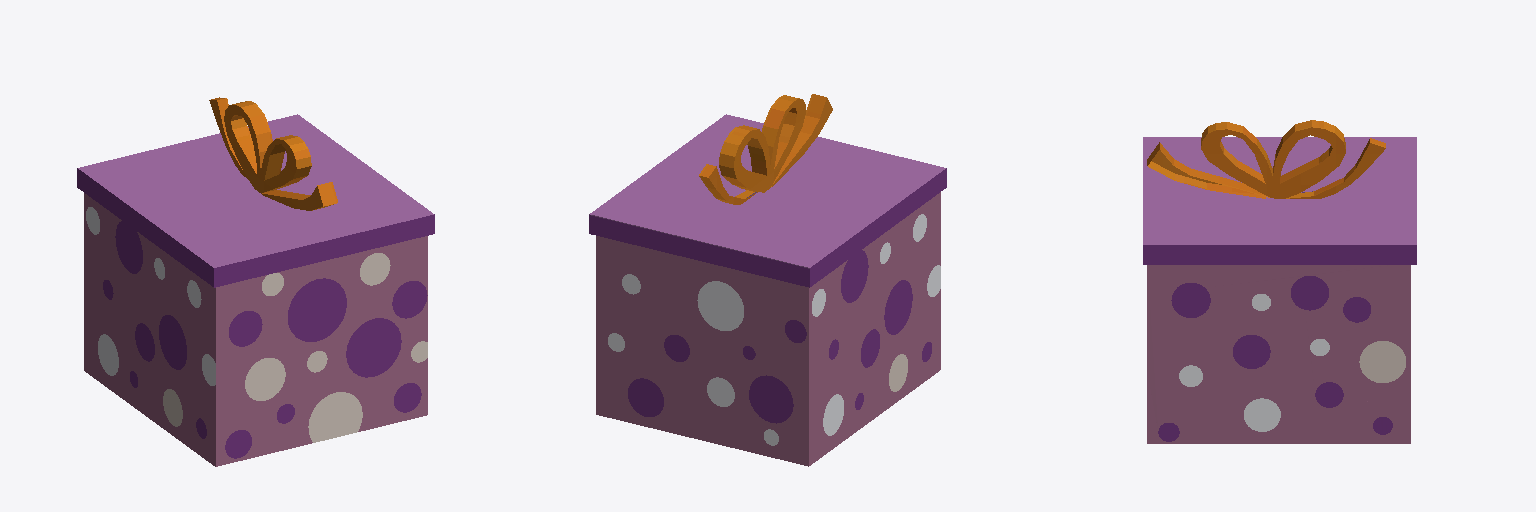
3 views of the same model, side by side, from view 1: azimuth 30°, elevation 25°; view 2: azimuth 150°, elevation 25°; view 3: azimuth 270°, elevation 25° (orthographic).
Parts seen in each view (by area): view 1: Mesh1_Model.001; view 2: Mesh1_Model.001; view 3: Mesh1_Model.001.
Part boxes in pixels (left/top/right/bottom): Mesh1_Model.001: left=77, top=97, right=434, bottom=466; Mesh1_Model.001: left=589, top=94, right=946, bottom=466; Mesh1_Model.001: left=1143, top=120, right=1416, bottom=443.
Size of the model in its own units: 1.17 by 1.38 by 1.26.
Materials: 8 (1 with a texture image).